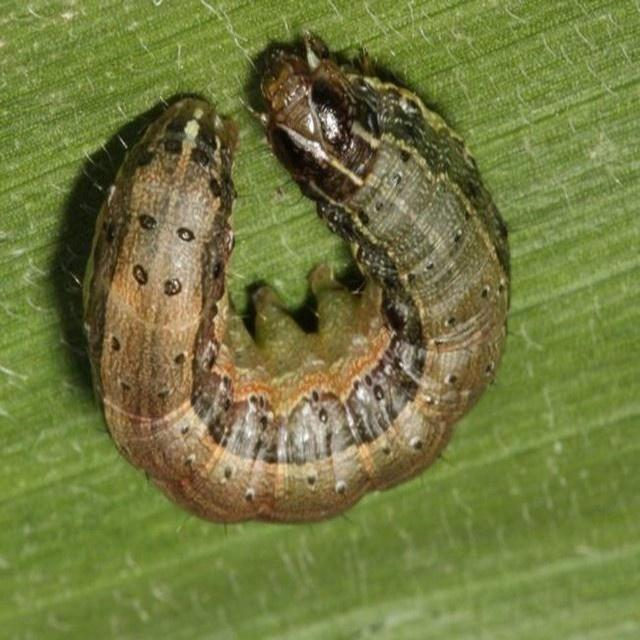gusano_cogollero: (70, 36, 508, 526)
